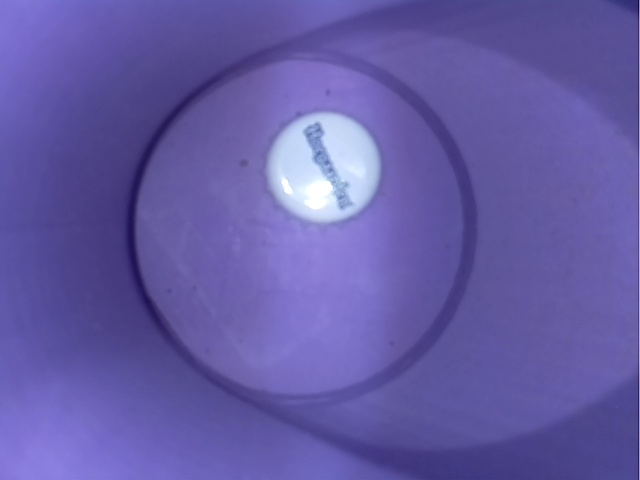capsule: (238, 94, 412, 235)
